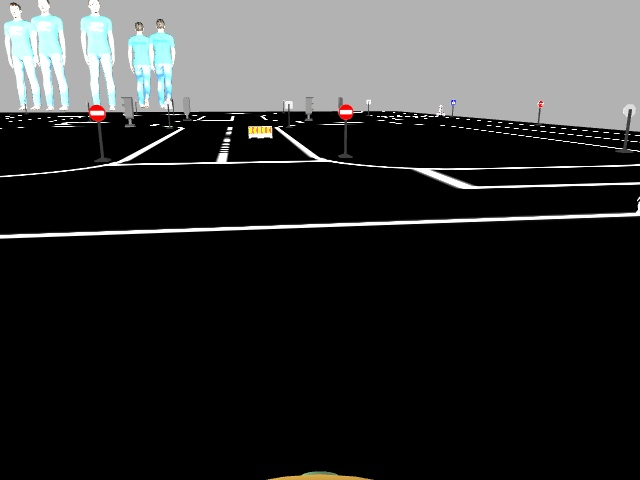ClosedRoadStand: (248, 127, 271, 136)
NoEntry: (87, 105, 106, 123), (337, 104, 353, 118)
